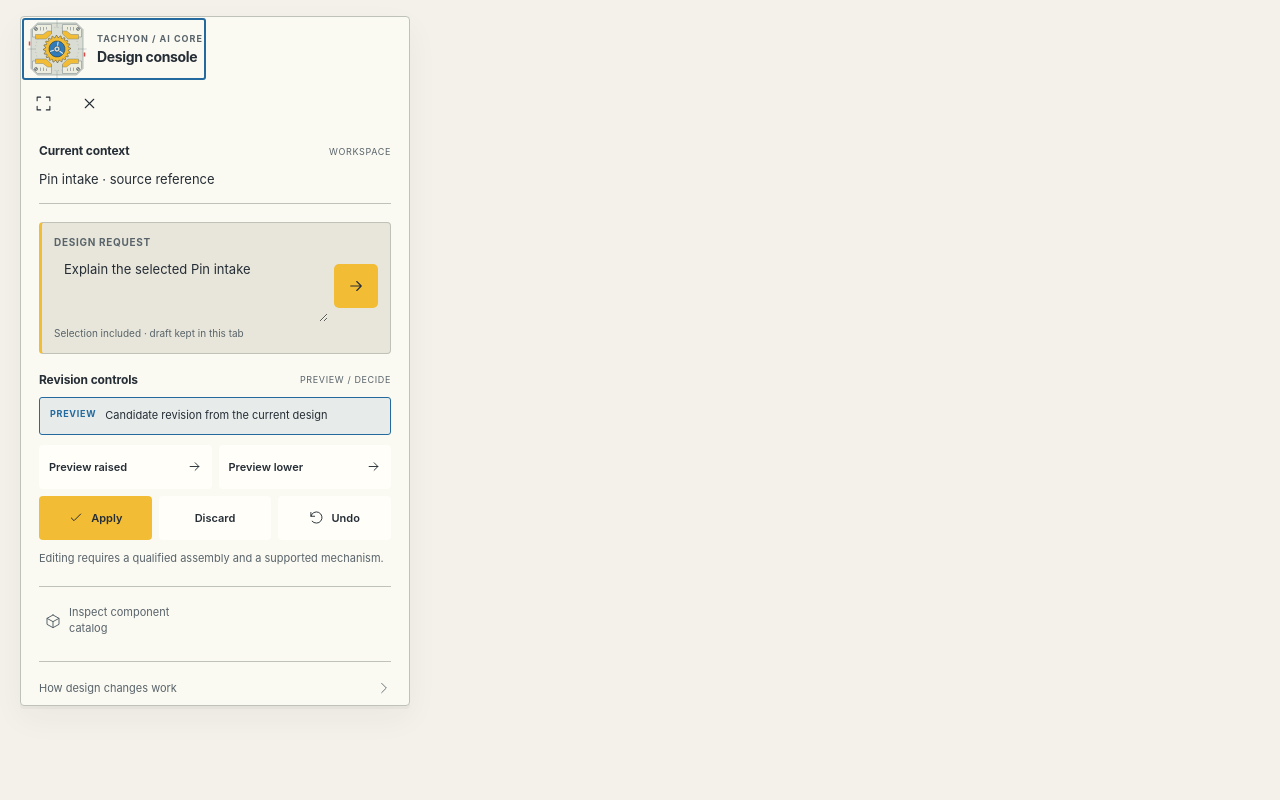
Test: delegates Apply without inventing a revision result
This screenshot has width=1280, height=800.
Expected: the text "Candidate revision from the current design" is shown, [105,408,328,422]
Click the button "Apply" at x=95, y=518, box [39,496,152,540]
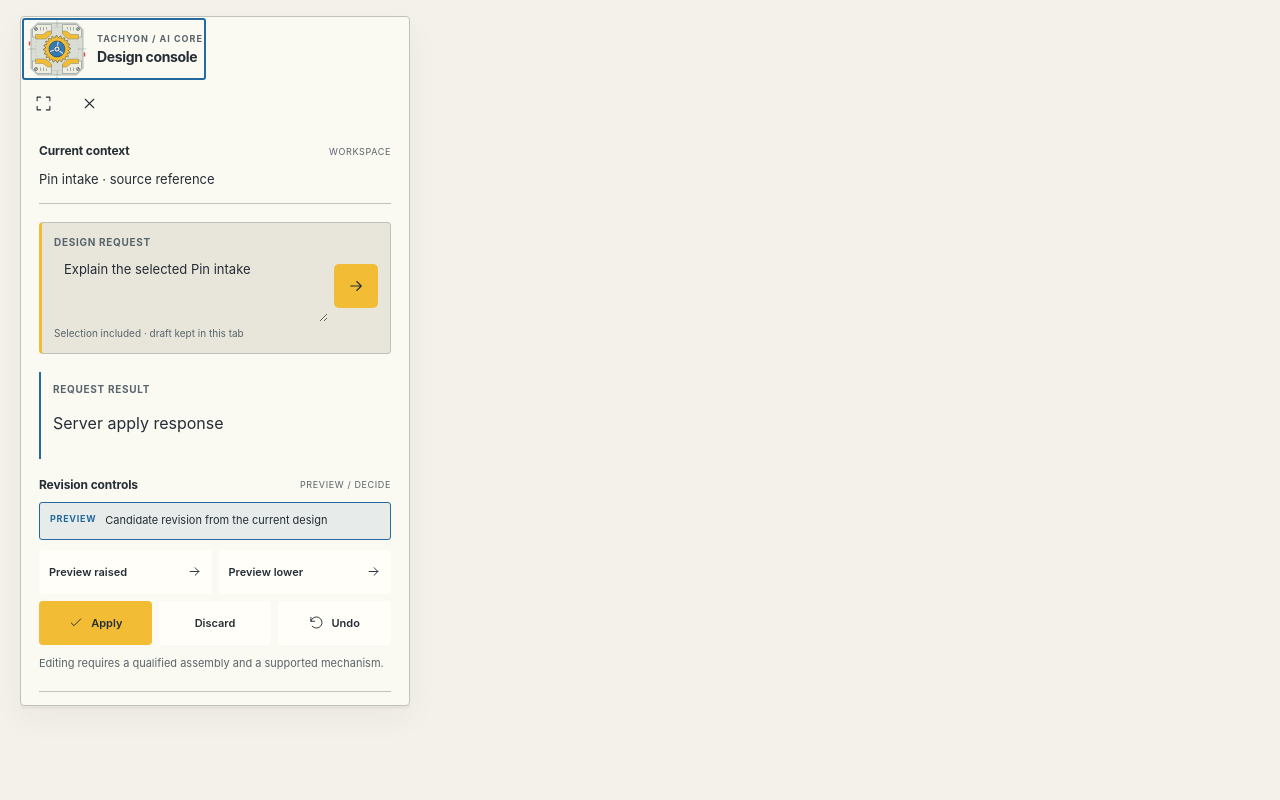
Result: the message reads "Request result Server apply response" at [53,413,224,433]
